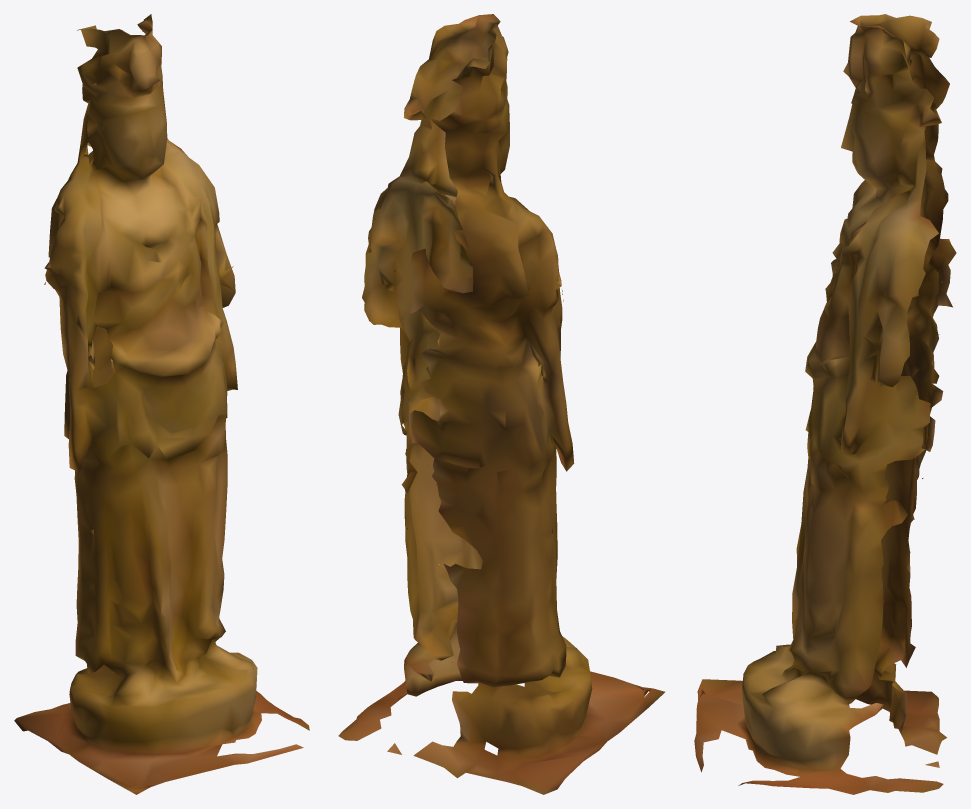
File: far.glb
3 renders of one model, left to right at view 1: azimuth 30°, elevation 25°; view 2: azimuth 150°, elevation 25°; view 3: azimuth 270°, elevation 25°, orthographic. The views are drawn at different scales.
Visible parts, largest first — view 1: statue-027; view 2: statue-027; view 3: statue-027.
Part boxes in pixels (left/top/right/bottom): statue-027: left=14, top=14, right=309, bottom=794; statue-027: left=338, top=14, right=664, bottom=794; statue-027: left=694, top=14, right=956, bottom=794.
Size of the model in its own units: 0.3148 by 0.9999 by 0.3276.
